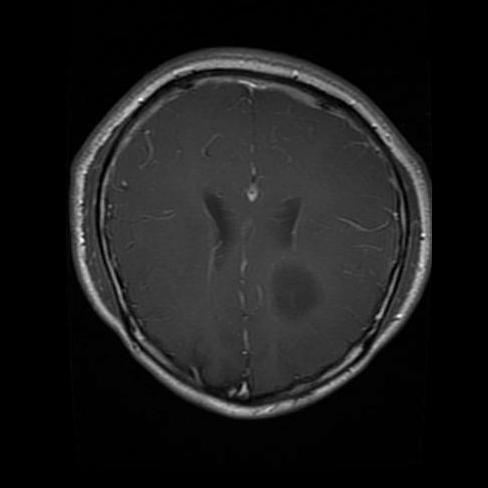Tumour-Glioma: (261, 259, 314, 333)
